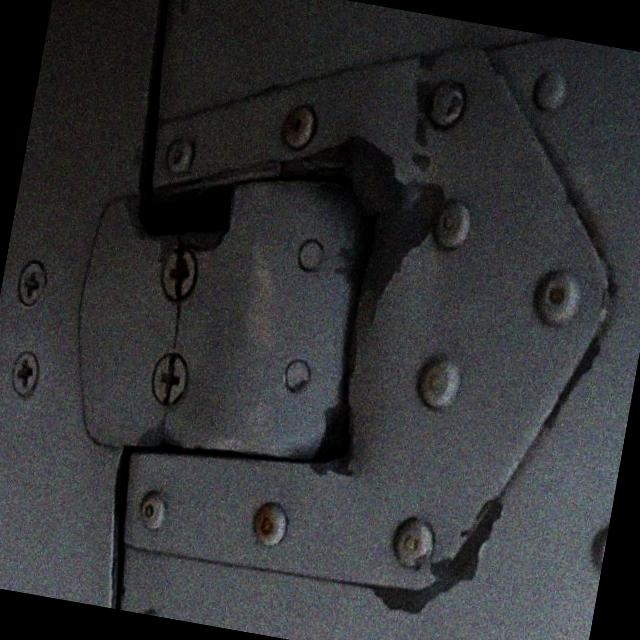crack: (158, 310, 193, 362)
